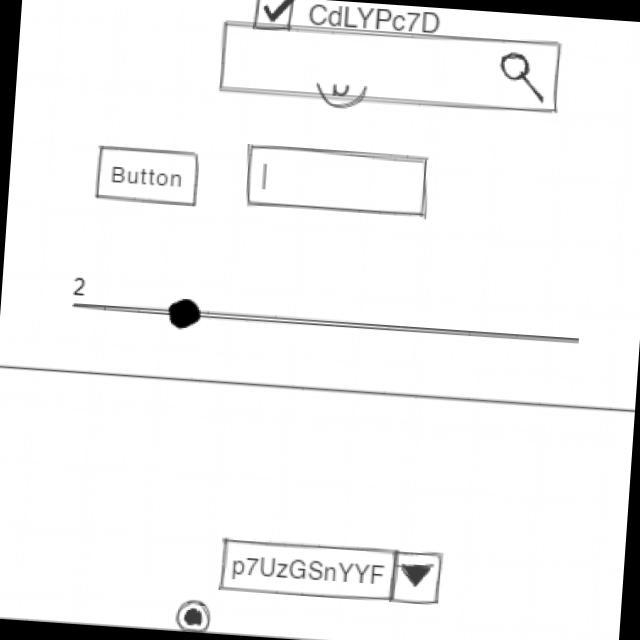button: (92, 140, 205, 210)
checkbox: (248, 0, 443, 41)
container: (0, 359, 634, 640)
input: (240, 139, 434, 223)
radio: (172, 596, 213, 633)
search: (215, 19, 564, 120)
select: (88, 288, 584, 359), (215, 533, 445, 609)
